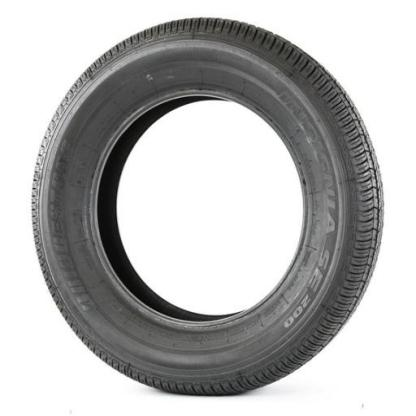Tire: (30, 16, 386, 398)
